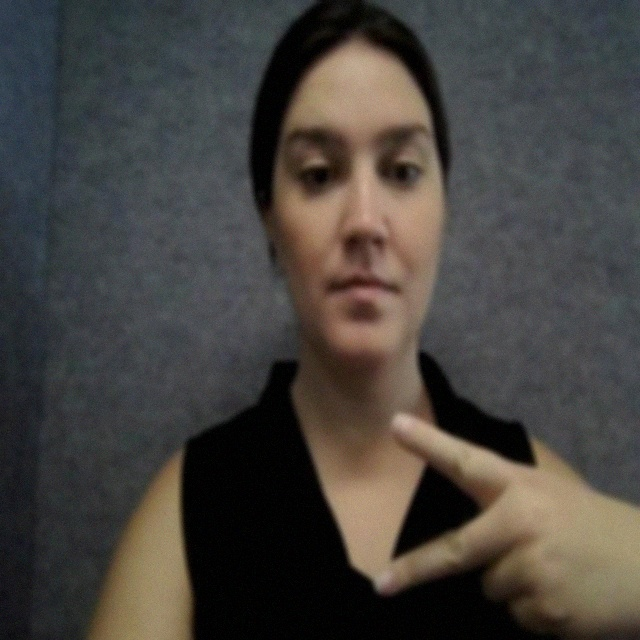Scissors: (354, 391, 639, 640)
